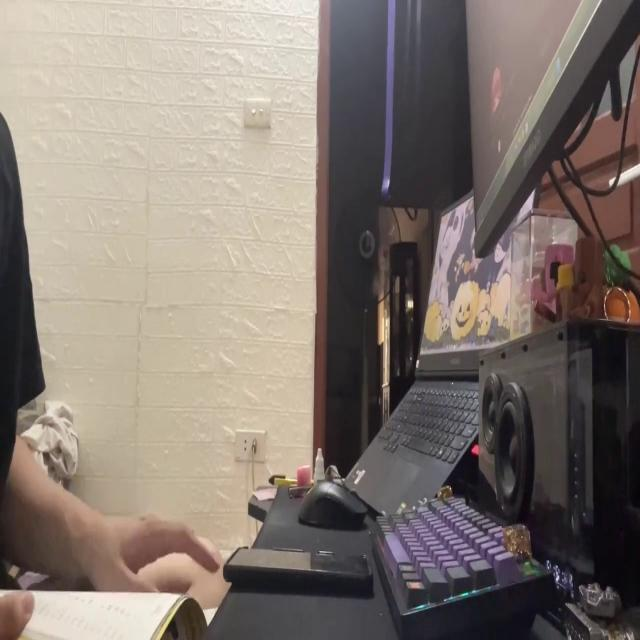book: (1, 581, 217, 640)
laptop: (336, 170, 543, 522), (462, 0, 640, 260)
phone: (225, 537, 376, 604)
student: (0, 110, 230, 640)
